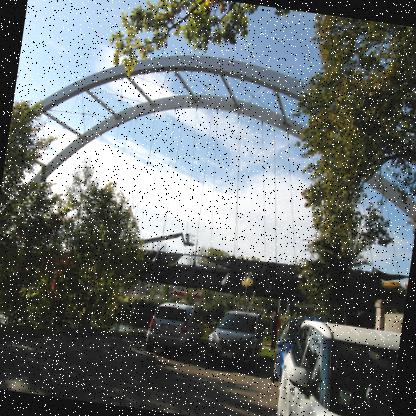Car: (274, 317, 401, 415), (269, 312, 327, 400), (204, 302, 268, 370), (142, 298, 196, 358)
